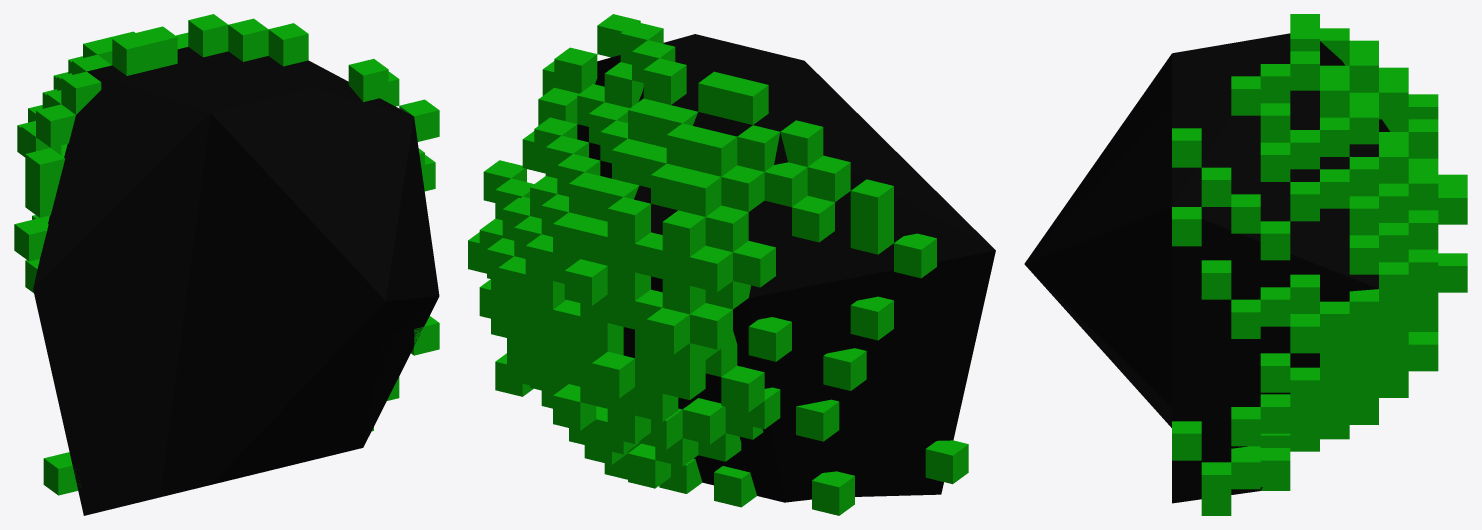
The model's file is br-m-bush_greenA.fbx.
The picture shows the model from 3 angles, left to right: view 1: azimuth 30°, elevation 25°; view 2: azimuth 150°, elevation 25°; view 3: azimuth 270°, elevation 25°; orthographic projection. The views are drawn at different scales.
Visible parts, largest first — view 1: rock, pCube948, pCube945, pCube946, pCube944, pCube966, pCube980, pCube956, pCube955, pCube985, pCube982, pCube947 (+6 smaller); view 2: rock, pCube959, pCube953, pCube958, pCube946, pCube948, pCube956, pCube1009, pCube990, pCube978, pCube977, pCube976 (+85 smaller); view 3: rock, pCube949, pCube1053, pCube1051, pCube1044, pCube1026, pCube1011, pCube976, pCube1065, pCube969, pCube945, pCube965 (+46 smaller).
Boxes of the visible parts, x1,y1,x2,y2 form: rock: (33, 47, 439, 515); pCube948: (112, 32, 152, 75); pCube945: (228, 18, 268, 61); pCube946: (188, 14, 228, 57); pCube944: (268, 23, 308, 66); pCube966: (348, 59, 388, 101); pCube980: (25, 148, 64, 191); pCube956: (36, 104, 75, 147); pCube955: (61, 71, 101, 114); pCube985: (43, 452, 80, 495); pCube982: (14, 218, 48, 261); pCube947: (138, 26, 177, 69); rock: (577, 34, 995, 502); pCube959: (678, 170, 721, 216); pCube953: (694, 130, 737, 176); pCube958: (721, 165, 764, 211); pCube946: (643, 58, 686, 104); pCube948: (725, 78, 768, 124); pCube956: (807, 155, 850, 202); pCube1009: (564, 259, 607, 305); pCube990: (721, 365, 764, 412); pCube978: (705, 205, 748, 252); pCube977: (662, 210, 705, 256); pCube976: (607, 197, 650, 243); rock: (1024, 33, 1389, 503); pCube949: (1260, 103, 1290, 142); pCube1053: (1201, 260, 1231, 299); pCube1051: (1260, 353, 1290, 392); pCube1044: (1201, 462, 1231, 501); pCube1026: (1260, 394, 1290, 433); pCube1011: (1408, 210, 1438, 249); pCube976: (1408, 119, 1438, 158); pCube1065: (1260, 287, 1290, 326); pCube969: (1260, 221, 1290, 260); pCube945: (1260, 64, 1290, 103); pCube965: (1260, 142, 1290, 181).
Bounding box in the file's own units: 106 × 93.75 × 93.75.
